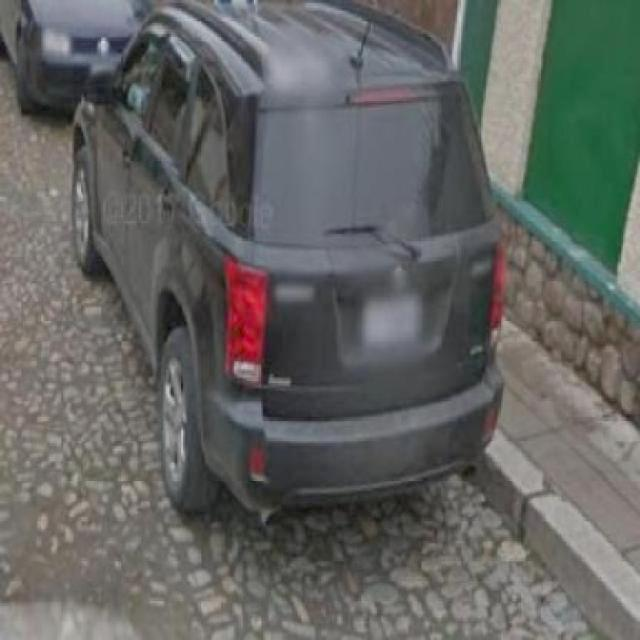car: (50, 6, 523, 529), (79, 0, 524, 485)
